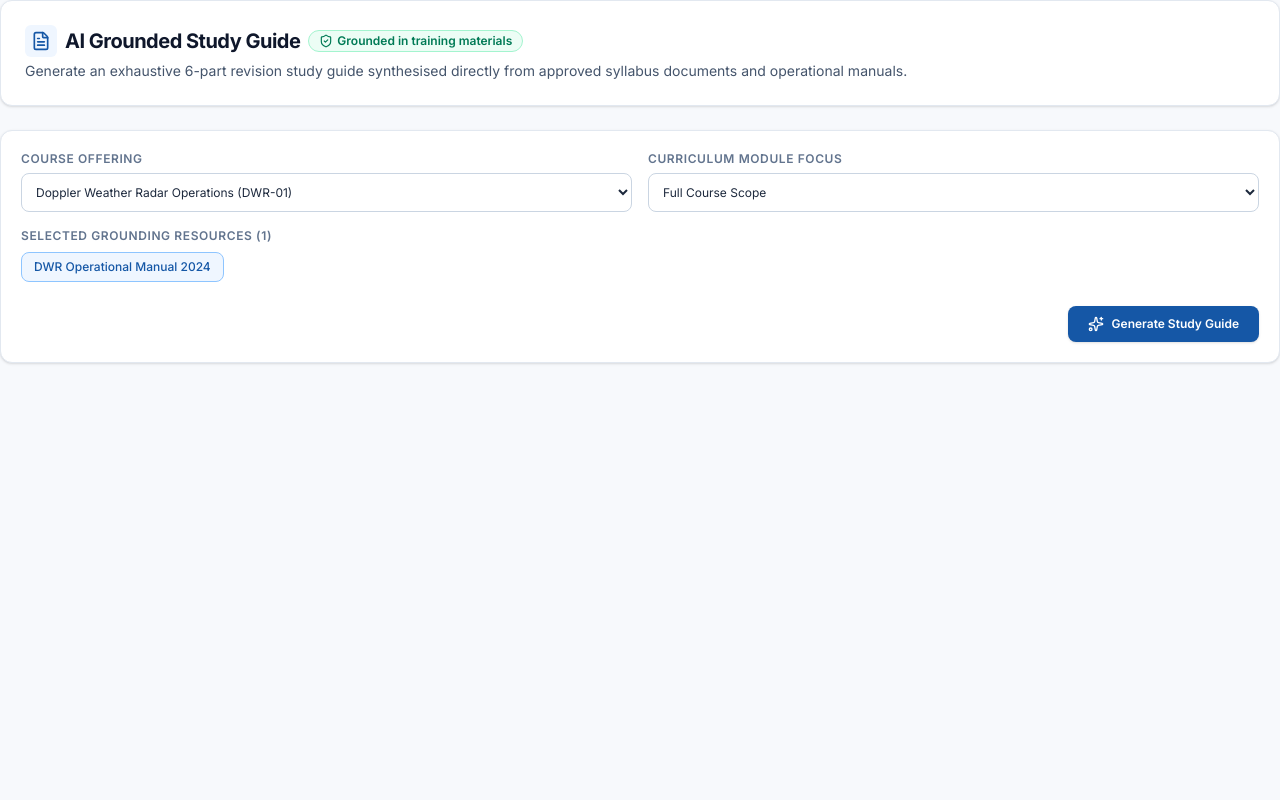
Test: Phase 7: Grounded AI Intelligence Layer - Frontend Suite › FLOW 5: Trainee AI Study Guide generates 6-part grounded revision document
expect the button "DWR Operational Manual 2024" is shown: met, box [21, 252, 224, 282]
Click the button "Generate Study Guide": click(1163, 324) [1068, 306, 1259, 342]
(page scrolled)
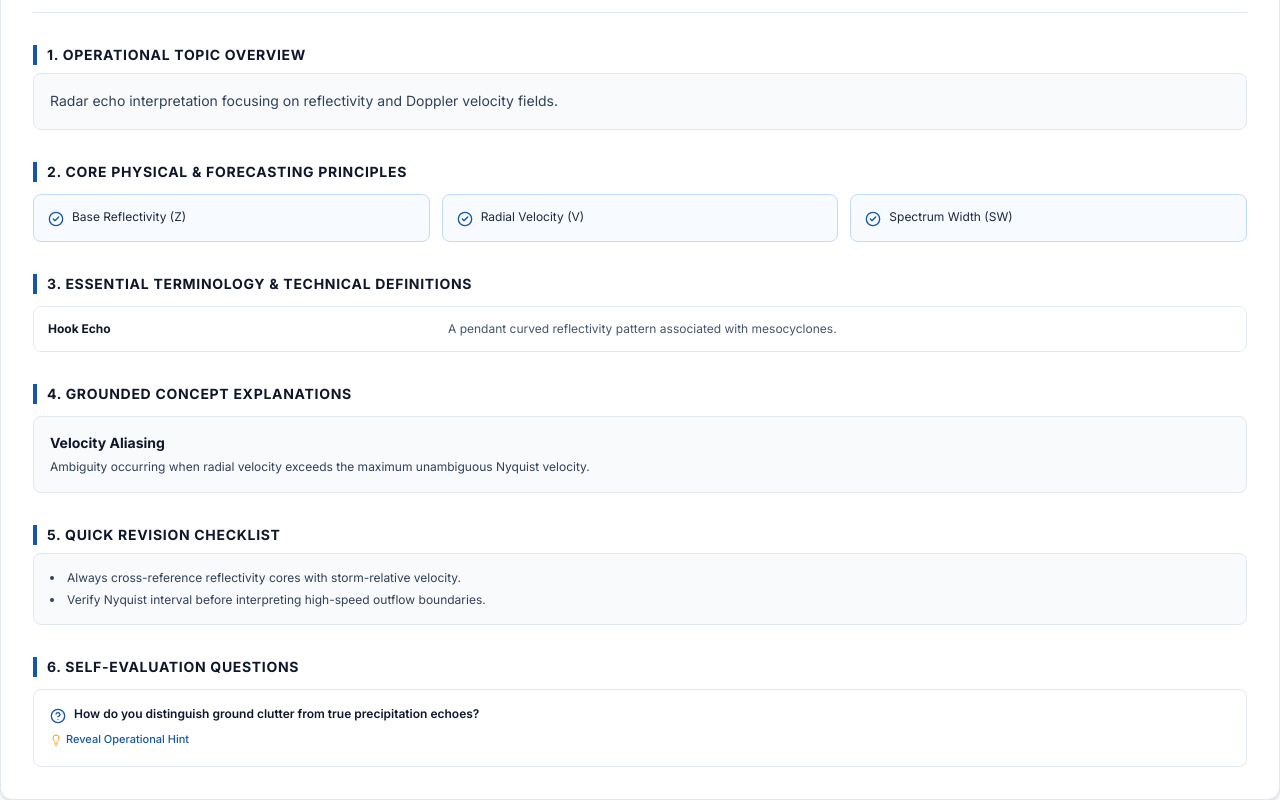
expect the heading "1. Operational Topic Overview" is shown: met, box [33, 45, 1247, 65]
expect the text "Base Reflectivity (Z)" is shown: met, box [72, 209, 186, 225]
expect the text "Hook Echo" is shown: met, box [48, 321, 111, 336]
